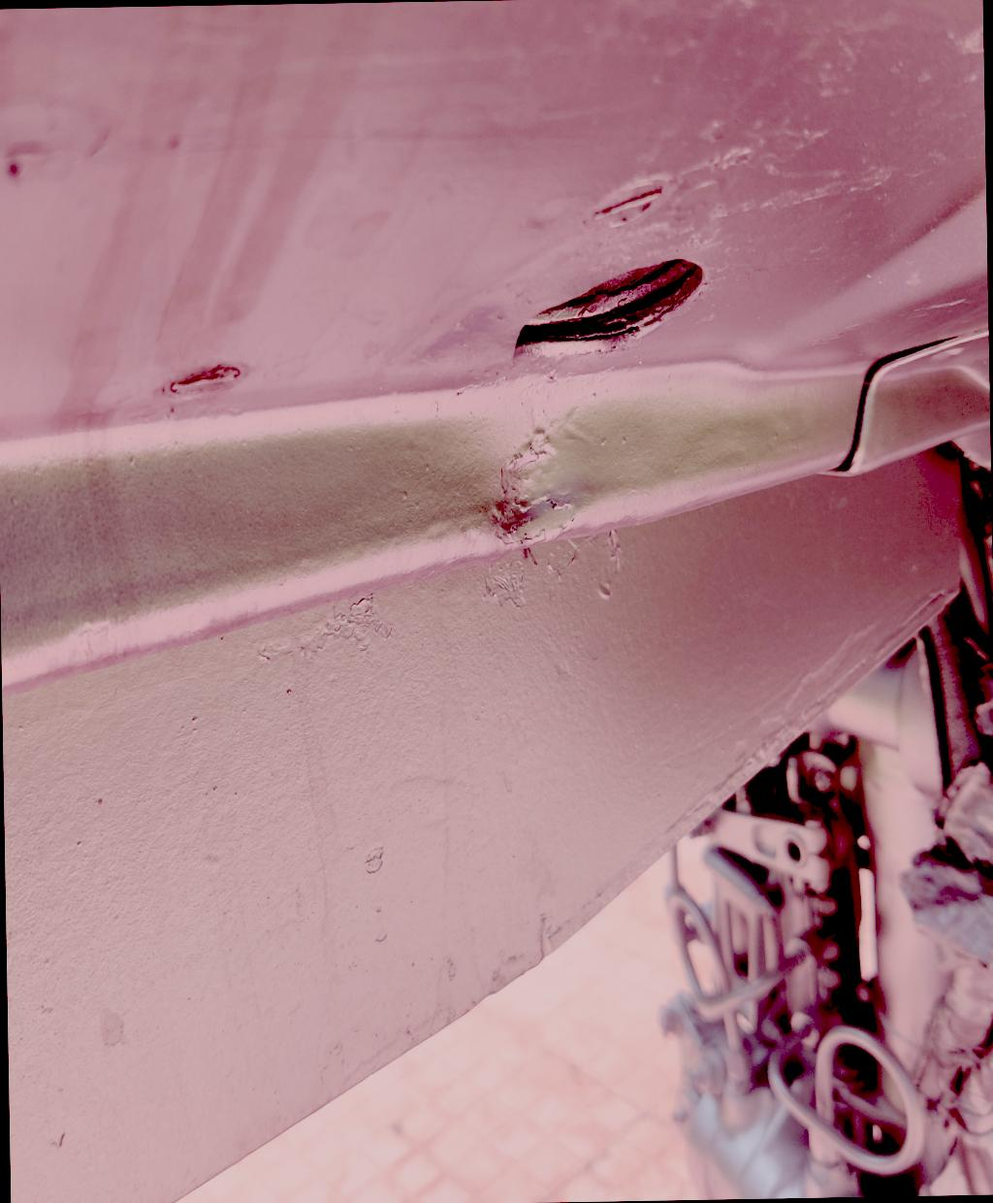dent: (438, 386, 606, 588)
